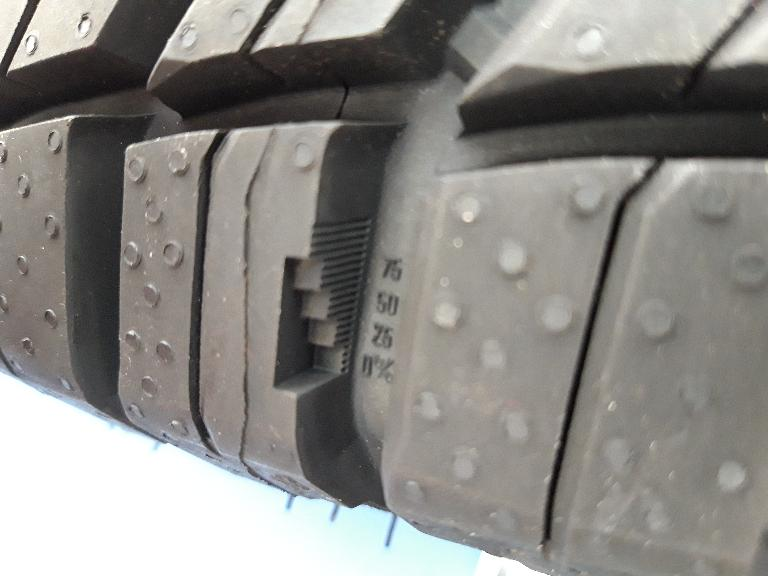temoin:100: (263, 209, 386, 403)
